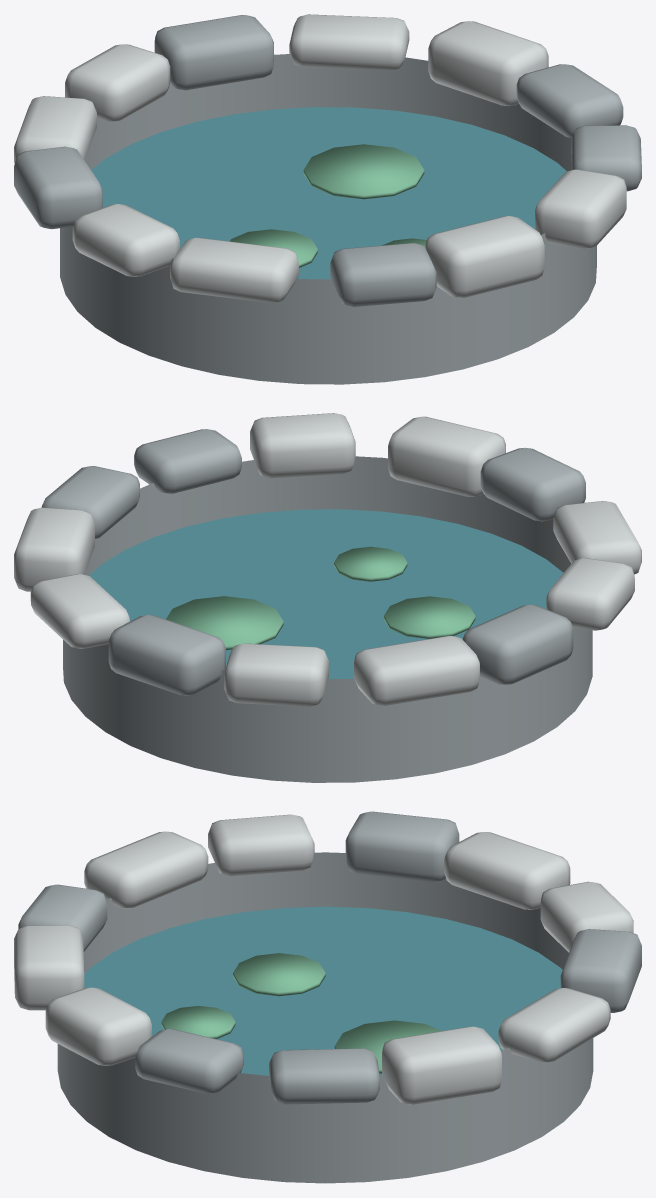
The model's file is hole_rim_stone.glb.
3 views of the same model, one above another, from view 1: azimuth 30°, elevation 25°; view 2: azimuth 150°, elevation 25°; view 3: azimuth 270°, elevation 25° (orthographic).
Visible parts, largest first — view 1: Wall, Water, Curb10, Curb3, Curb1, Curb8, Curb2, Curb9, Curb4, Curb11, Curb7, Curb6 (+5 smaller); view 2: Wall, Water, Curb3, Curb5, Curb10, Curb6, Curb11, Curb4, Curb9, Curb1, Curb12, Curb2 (+6 smaller); view 3: Wall, Water, Curb1, Curb5, Curb6, Curb8, Curb11, Curb0, Curb2, Curb7, Curb12, Curb10 (+6 smaller).
Part boxes in pixels (x1,y1,x2,y2): Wall: [60, 54, 596, 384]; Water: [91, 107, 566, 279]; Curb10: [425, 216, 544, 297]; Curb3: [154, 15, 273, 90]; Curb1: [428, 21, 548, 105]; Curb8: [170, 237, 298, 303]; Curb2: [289, 14, 409, 70]; Curb9: [330, 243, 436, 306]; Curb4: [65, 44, 170, 121]; Curb11: [535, 169, 626, 248]; Curb7: [72, 204, 179, 276]; Curb6: [14, 146, 102, 229]; Wall: [63, 456, 592, 782]; Water: [89, 509, 563, 679]; Curb3: [108, 615, 225, 695]; Curb5: [354, 636, 479, 705]; Curb10: [388, 416, 505, 496]; Curb6: [462, 604, 573, 684]; Curb11: [250, 413, 355, 478]; Curb4: [224, 643, 328, 706]; Curb9: [480, 447, 585, 521]; Curb1: [14, 507, 94, 591]; Curb12: [134, 429, 241, 493]; Curb2: [30, 574, 129, 648]; Wall: [57, 852, 593, 1183]; Water: [84, 906, 562, 1075]; Curb1: [382, 1026, 501, 1104]; Curb5: [444, 832, 570, 909]; Curb6: [345, 811, 459, 881]; Curb8: [84, 831, 208, 908]; Curb11: [45, 987, 151, 1065]; Curb0: [269, 1048, 379, 1104]; Curb2: [498, 988, 610, 1062]; Curb7: [208, 814, 314, 876]; Curb12: [135, 1029, 243, 1093]; Curb10: [14, 925, 84, 1010].
Bounding box in the file's own units: 2.7 × 0.6463 × 2.72.
